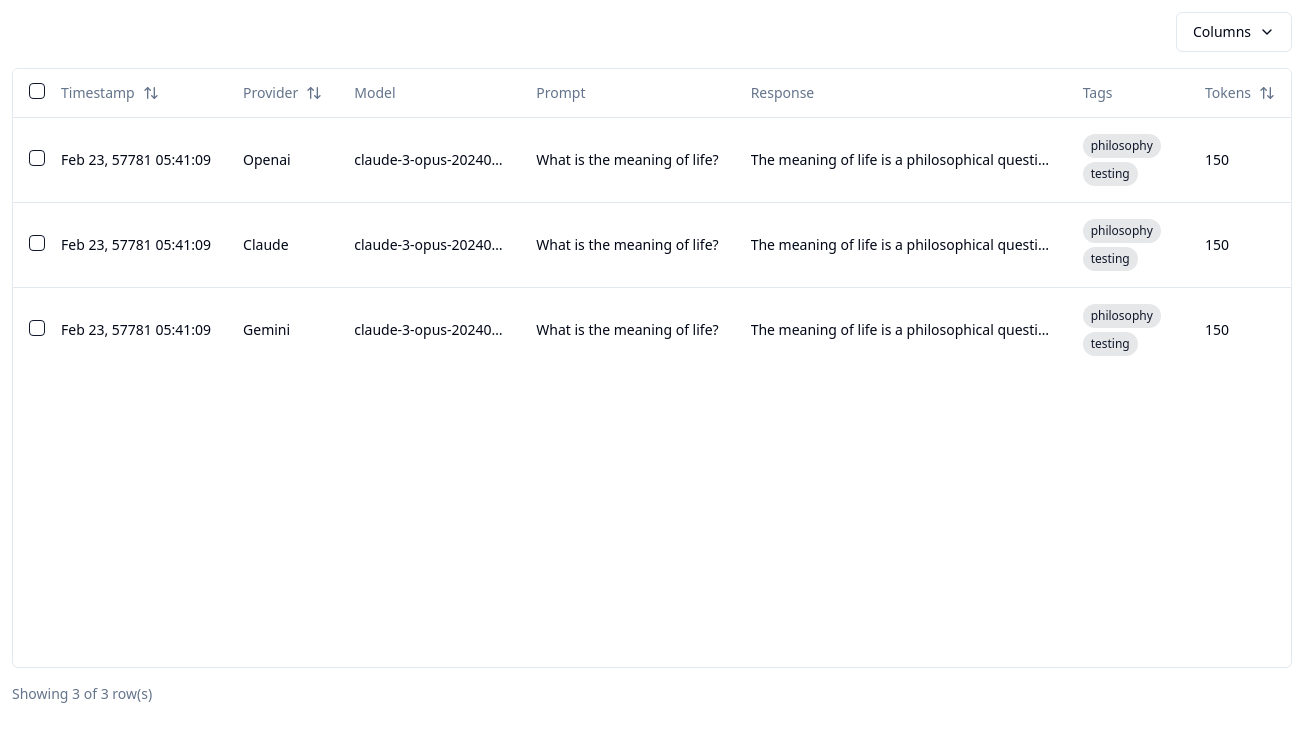
it: ResearchDataTable › Sorting Functionality › should sort by provider when header clicked
Click the button "Provider".
click(283, 93)  # box [243,73,322,113]
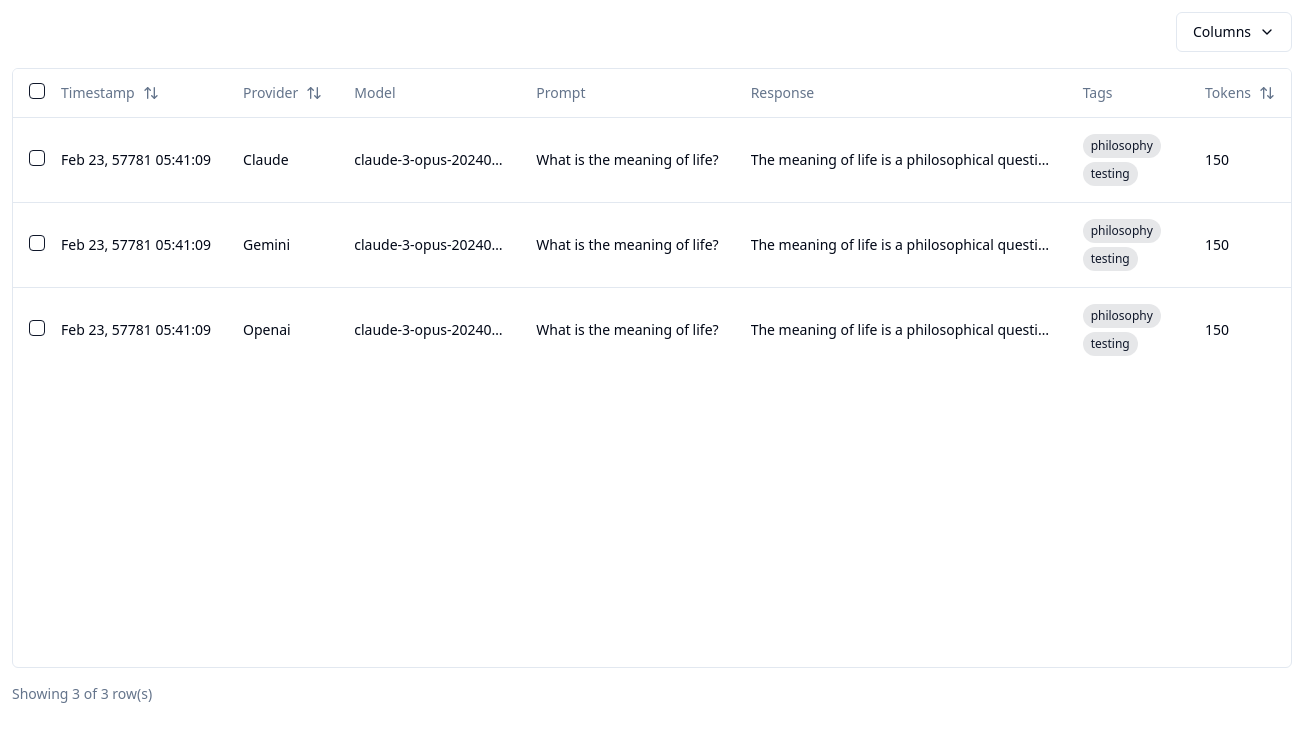
Result: the text "claude" is shown at [243,150,289,168]
